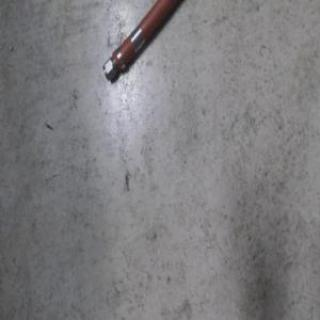Hosetrack_idkeyframe: (101, 0, 182, 83)
